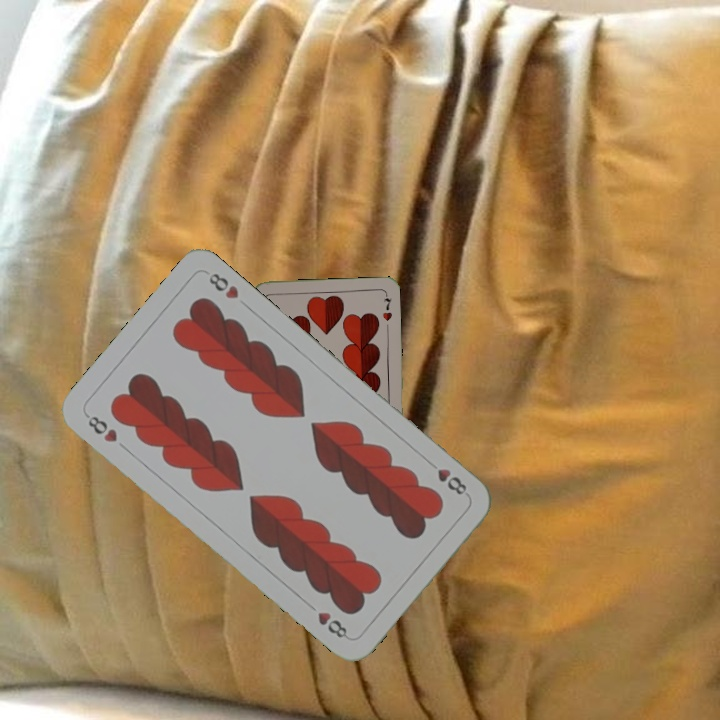H8: (423, 456, 470, 498), (81, 410, 120, 445)
